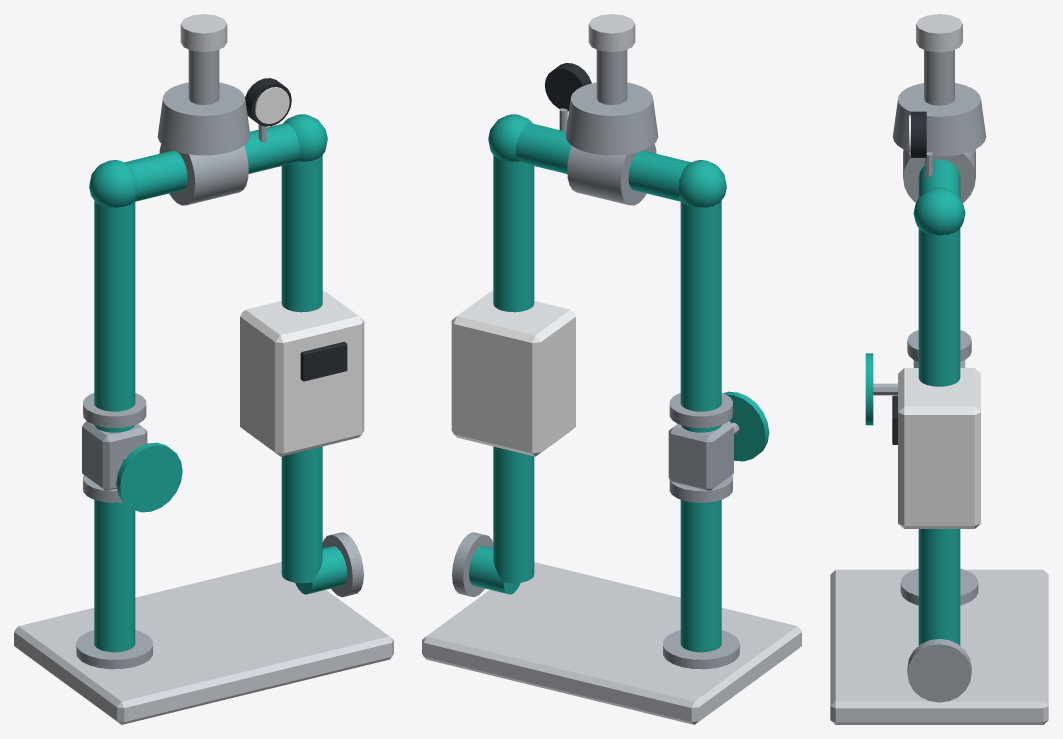
The model's file is pipeline-entry.glb.
3 views of the same model, side by side, from view 1: azimuth 30°, elevation 25°; view 2: azimuth 150°, elevation 25°; view 3: azimuth 270°, elevation 25° (orthographic).
Visible parts, largest first — view 1: pipeline-entry; view 2: pipeline-entry; view 3: pipeline-entry.
Boxes of the visible parts, x1,y1,x2,y2 form: pipeline-entry: (14, 14, 393, 724); pipeline-entry: (422, 14, 801, 724); pipeline-entry: (830, 14, 1048, 724).
Bounding box in the file's own units: 0.6325 × 1.35 × 0.42.
